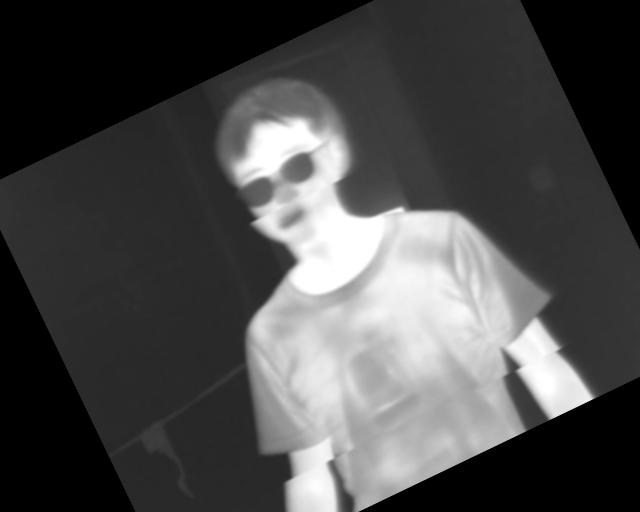face: (190, 54, 384, 263)
